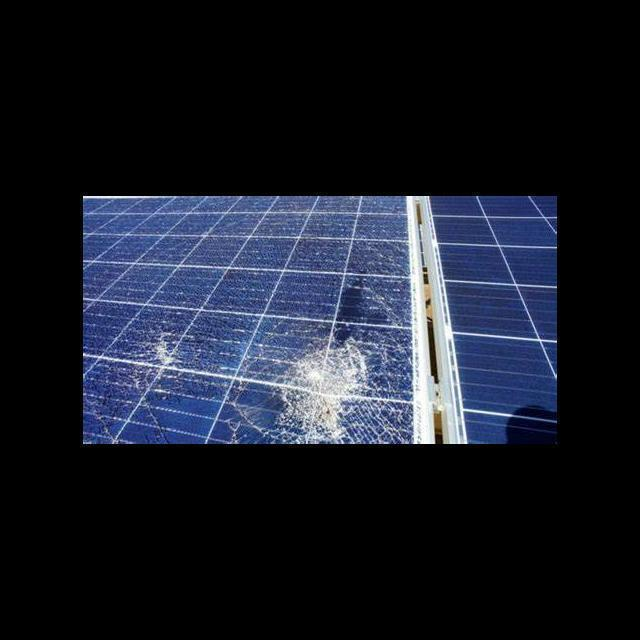Anomaly Solar Panel: (83, 196, 416, 444)
Structural Damage: (253, 310, 394, 444), (121, 309, 209, 400)
